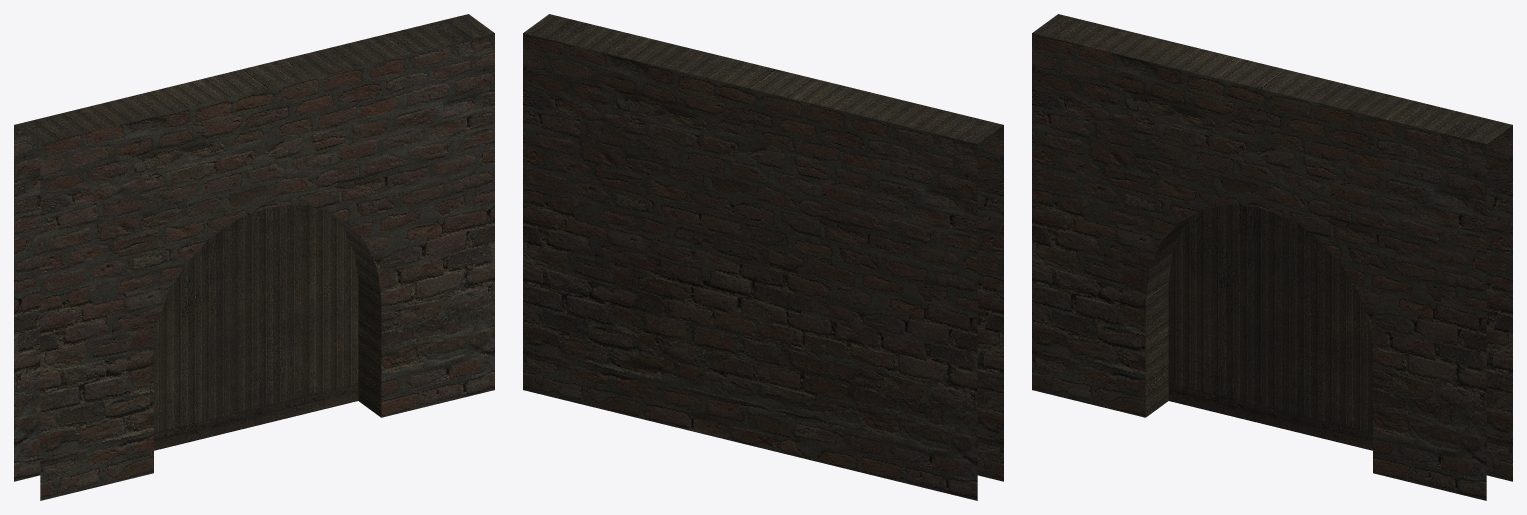
Rendered from wall_hr_15.glb.
3 renders of one model, left to right at view 1: azimuth 30°, elevation 25°; view 2: azimuth 150°, elevation 25°; view 3: azimuth 330°, elevation 25°, orthographic.
Parts seen in each view (by area): view 1: wall_hr_15; view 2: wall_hr_15; view 3: wall_hr_15.
Part boxes in pixels (x1=…): wall_hr_15: x1=14, y1=14, x2=494, y2=500; wall_hr_15: x1=523, y1=14, x2=1003, y2=500; wall_hr_15: x1=1032, y1=14, x2=1512, y2=500.
Bounding box in the file's own units: 4 × 3 × 0.4.
2 materials, 2 textured.
